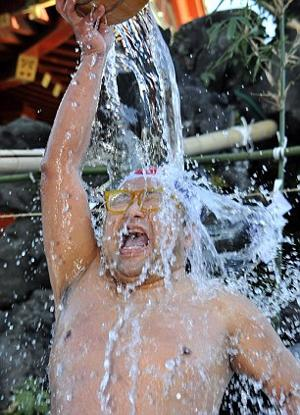person: (40, 2, 299, 414)
